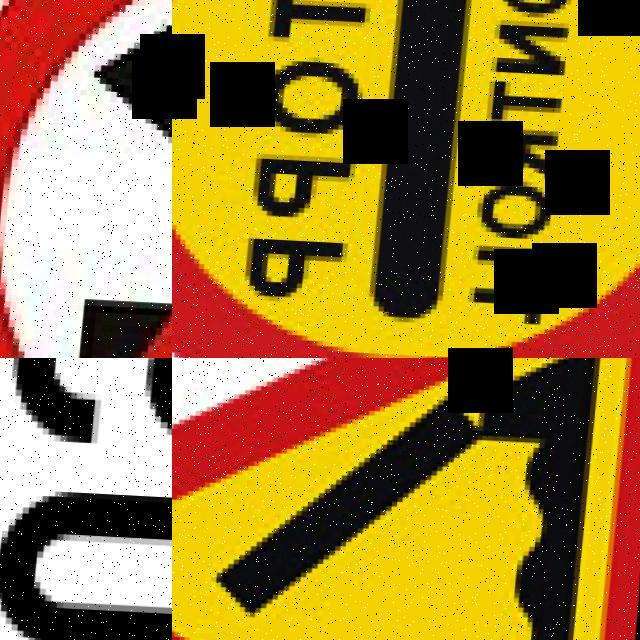116: (172, 0, 640, 358)
133: (172, 358, 640, 640)
One-way traffic: (0, 0, 172, 358), (0, 0, 172, 358)
speed limit-60: (0, 358, 172, 640)
